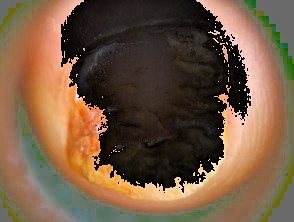Nail_psoriasis: (39, 0, 283, 217)
